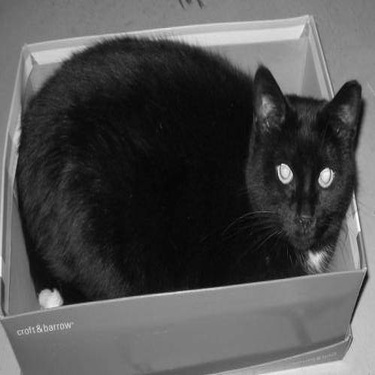cat: (14, 33, 366, 308)
